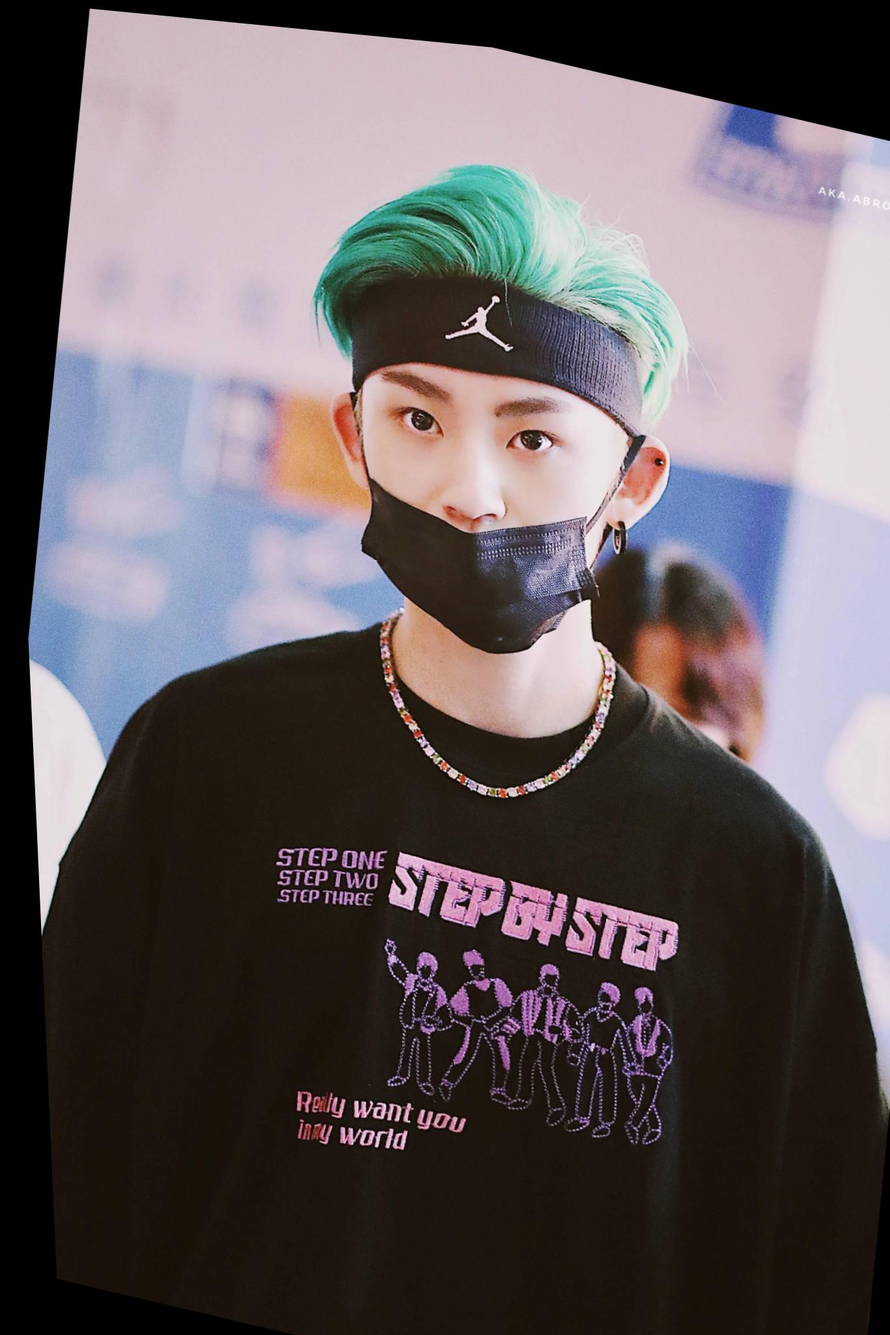WRONG: (319, 316, 628, 662)
